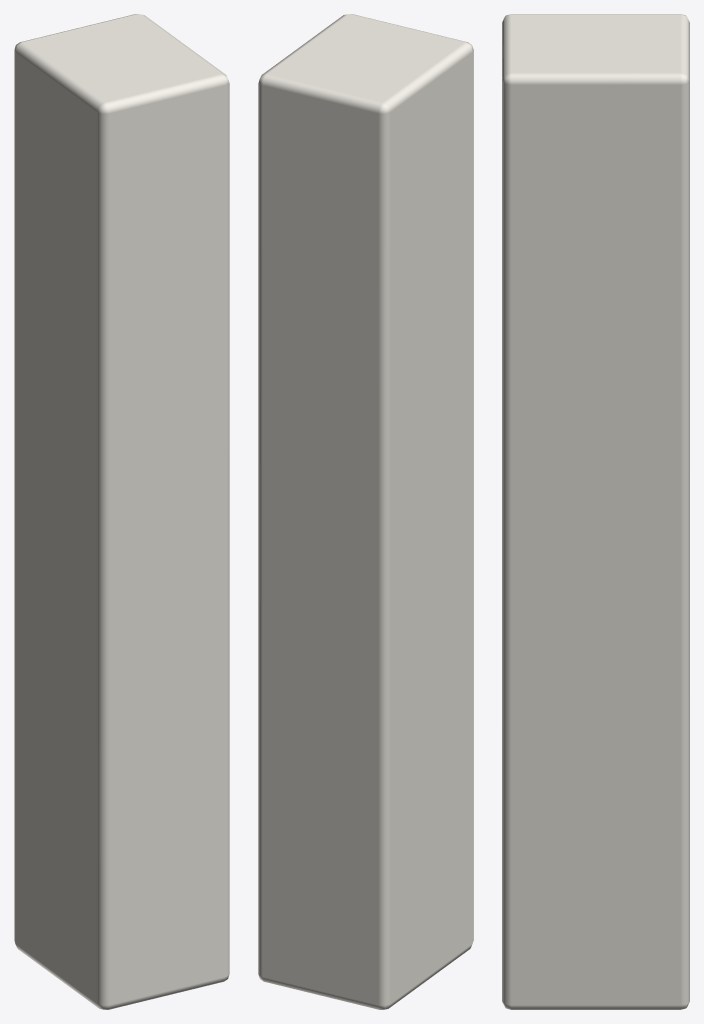
The model's file is wall-half.glb.
3 renders of one model, left to right at view 1: azimuth 30°, elevation 25°; view 2: azimuth 150°, elevation 25°; view 3: azimuth 270°, elevation 25°, orthographic. The views are drawn at different scales.
Visible parts, largest first — view 1: part; view 2: part; view 3: part.
Boxes of the visible parts, x1,y1,x2,y2 form: part: (14,14,229,1009); part: (258,14,473,1009); part: (502,14,689,1009).
Size of the model in its own units: 0.5 by 3.3 by 0.6.
1 material, 1 textured.
